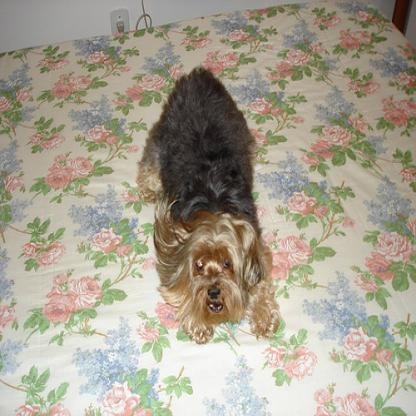dog: (136, 63, 280, 343)
